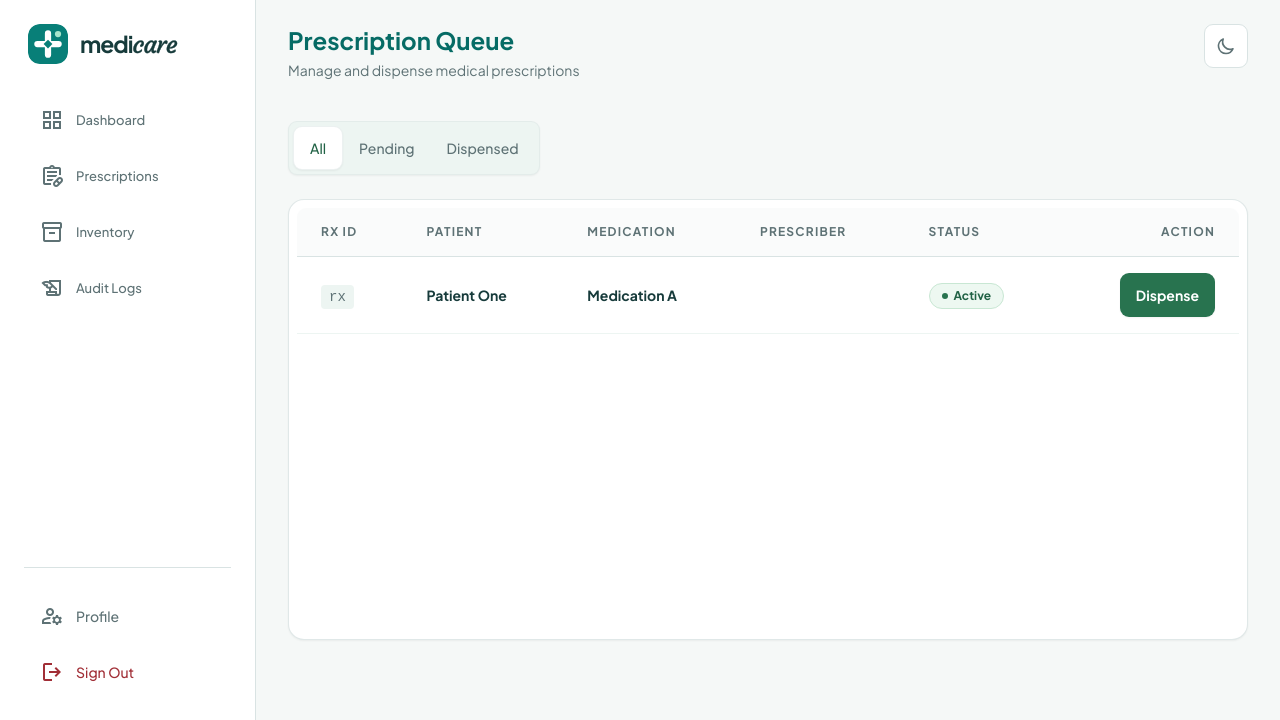
lets pharmacy dispense an active prescription and shows a server conflict
Click the button "Dispense": (1167, 295) [1120,273,1215,317]
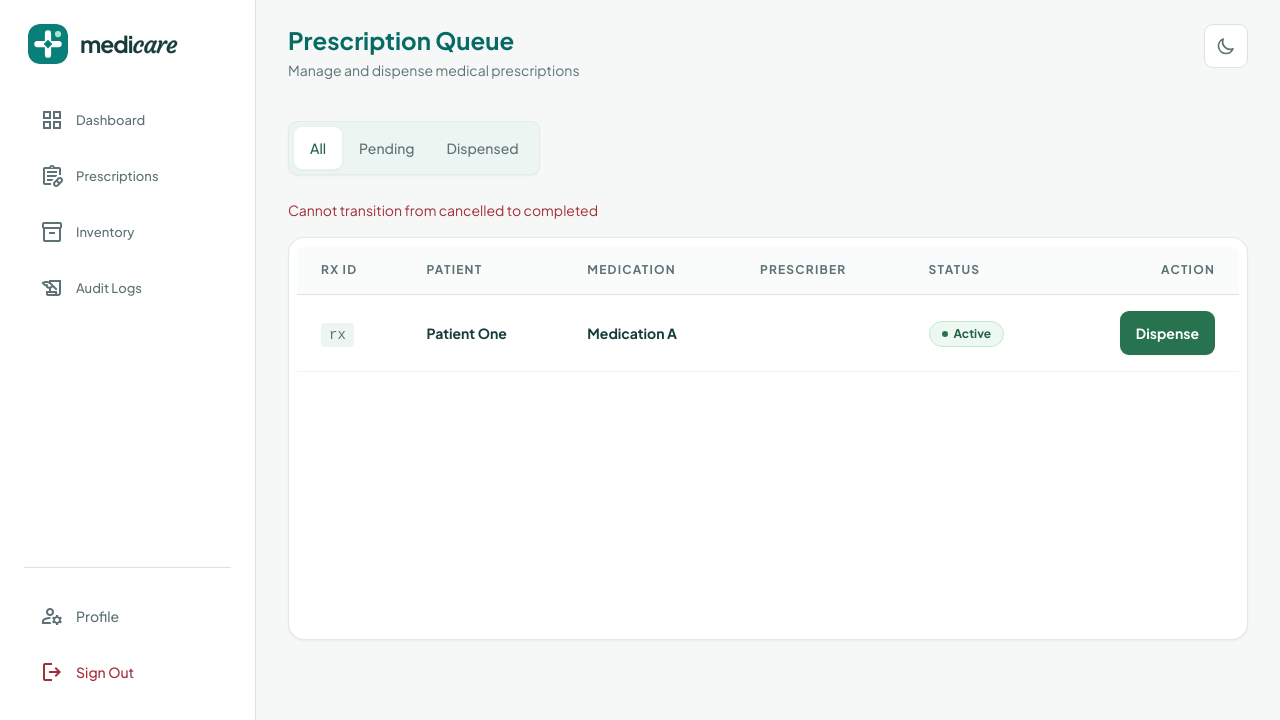
Expected: the text "Medication A" is shown, [587,324,677,342]
Expected: the message reads "Cannot transition from cancelled to completed", [288,201,598,219]
